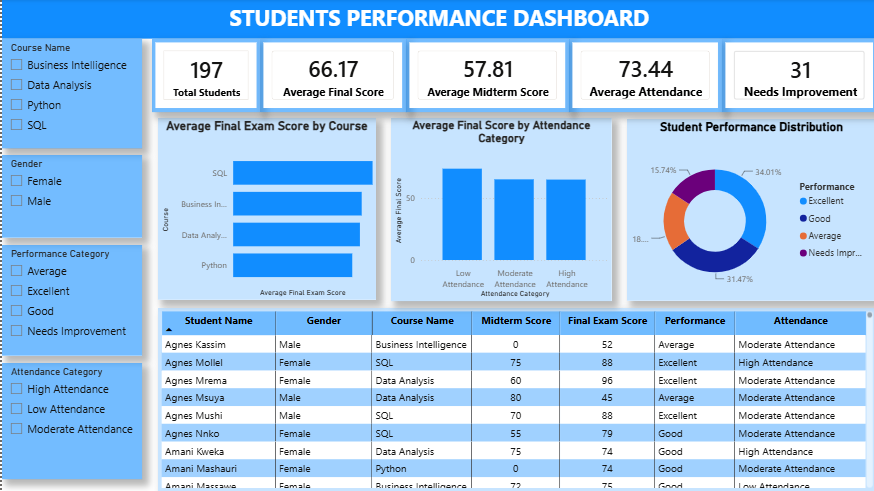

The dashboard page shown, as its layout file describes it:
{"tool":"powerbi","page":{"name":"Page 1","canvas":[1280,720],"ordinal":0},"visuals":[{"type":"barChart","title":"Average Final Exam Score by Course ","fields":{"Category":["Students - Students.Course Name"],"Y":["Students - Students.Average Final Score"]},"box":[228.3,174.1,319,266.3],"z":0},{"type":"donutChart","title":"Student Performance Distribution","fields":{"Category":["Students - Students.Performance Category"],"Y":["CountNonNull(Students - Students.StudentID)"]},"box":[914.6,175.6,364.4,266.3],"z":1000},{"type":"tableEx","fields":{"Values":["Students - Students.Student Name","Students - Students.Gender","Students - Students.Course Name","Students - Students.Midterm Score","Students - Students.Final Exam Score","Students - Students.Performance Category","Students - Students.Attendance Category"]},"box":[228.3,452.2,1050.7,267.8],"z":2000},{"type":"textbox","box":[0,0,1280,57.8],"z":3000},{"type":"clusteredColumnChart","fields":{"Category":["Students - Students.Attendance Category"],"Y":["Students - Students.Average Final Score"]},"box":[569.3,174.1,323.4,267.8],"z":4000},{"type":"slicer","fields":{"Values":["Students - Students.Course Name"]},"box":[0,58.5,204.9,159.5],"z":5000},{"type":"slicer","fields":{"Values":["Students - Students.Gender"]},"box":[0,228.3,204.9,121.5],"z":6000},{"type":"slicer","fields":{"Values":["Students - Students.Performance Category"]},"box":[0,360,204.9,162.4],"z":7000},{"type":"slicer","fields":{"Values":["Students - Students.Attendance Category"]},"box":[0,532.7,204.9,169.8],"z":8000},{"type":"cardVisual","fields":{"Data":["Students - Students.Total Students"]},"box":[219.5,58.5,158,106.8],"z":9000},{"type":"cardVisual","fields":{"Data":["Students - Students.Average Final Score"]},"box":[377.6,58.5,213.7,106.8],"z":10000},{"type":"cardVisual","fields":{"Data":["Students - Students.Average Midterm Score"]},"box":[591.2,58.5,238.5,106.8],"z":11000},{"type":"cardVisual","fields":{"Data":["Students - Students.Average Attendance"]},"box":[829.8,58.5,223.9,106.8],"z":12000},{"type":"cardVisual","fields":{"Data":["Students - Students.Students Needing Improvement"]},"box":[1053.7,58.5,226.8,106.8],"z":13000}]}

Visuals, with their boxes in screenshot pixels (x1, y1, x2, y2), scaled from the page's 1280x720 canvas onto the 874x491 screenshot:
"Average Final Exam Score by Course " barChart: (left=156, top=119, right=374, bottom=300)
"Student Performance Distribution" donutChart: (left=625, top=120, right=873, bottom=301)
tableEx - Students - Students.Student Name x Students - Students.Gender: (left=156, top=308, right=873, bottom=490)
textbox: (left=0, top=0, right=873, bottom=39)
clusteredColumnChart - Students - Students.Attendance Category x Students - Students.Average Final Score: (left=389, top=119, right=610, bottom=301)
slicer - Students - Students.Course Name: (left=0, top=40, right=140, bottom=149)
slicer - Students - Students.Gender: (left=0, top=156, right=140, bottom=239)
slicer - Students - Students.Performance Category: (left=0, top=246, right=140, bottom=356)
slicer - Students - Students.Attendance Category: (left=0, top=363, right=140, bottom=479)
cardVisual - Students - Students.Total Students: (left=150, top=40, right=258, bottom=113)
cardVisual - Students - Students.Average Final Score: (left=258, top=40, right=404, bottom=113)
cardVisual - Students - Students.Average Midterm Score: (left=404, top=40, right=567, bottom=113)
cardVisual - Students - Students.Average Attendance: (left=567, top=40, right=719, bottom=113)
cardVisual - Students - Students.Students Needing Improvement: (left=719, top=40, right=873, bottom=113)
